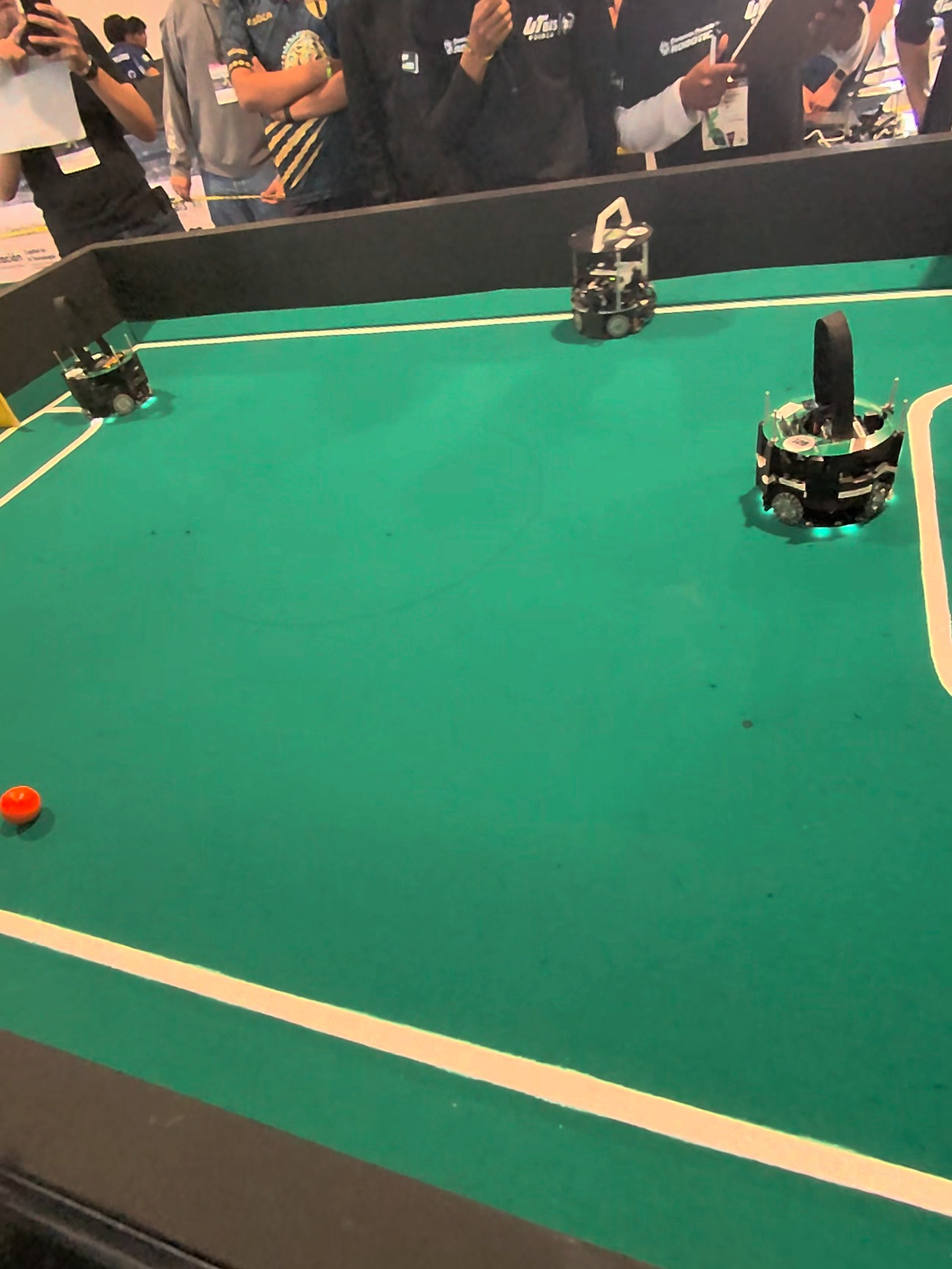Robot: (750, 297, 906, 556), (47, 282, 176, 437), (556, 189, 657, 349)
pelota: (1, 787, 42, 830)
